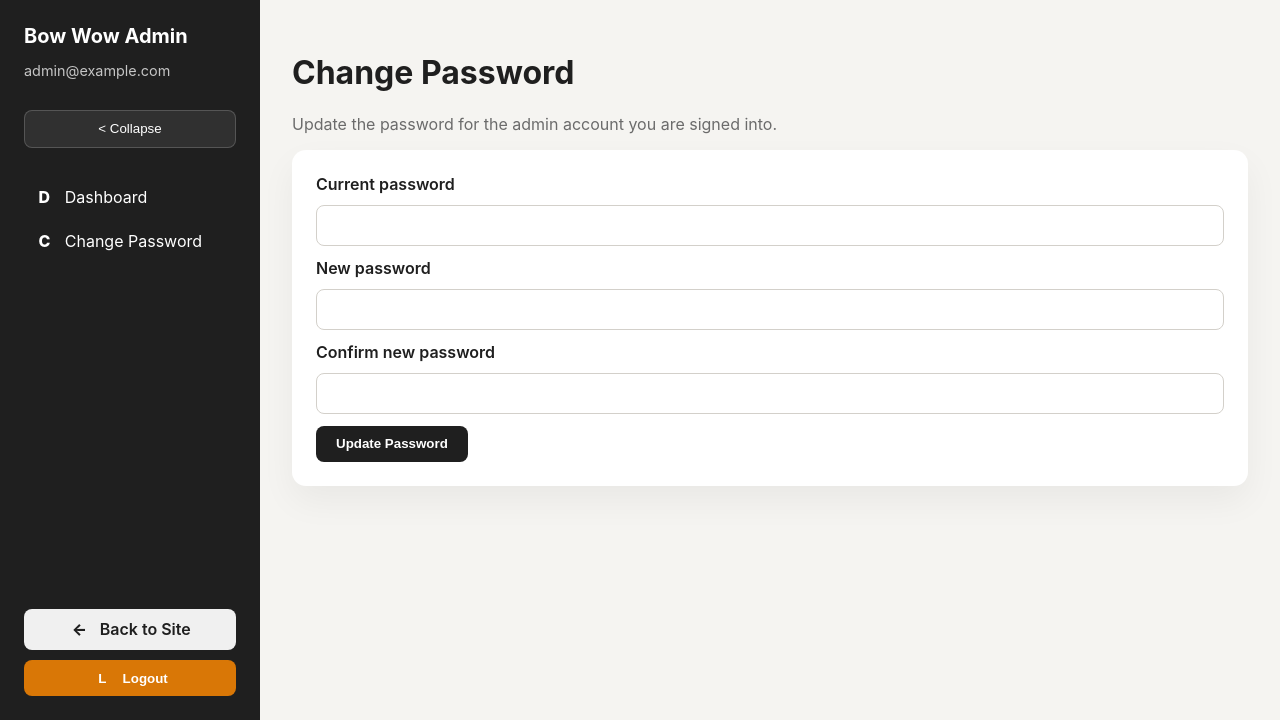
Test case: admin app › renders the change-password form and posts the expected payload
Type "old-password" into the password field labelled "Current password" at (770, 226), box [316,205,1224,246]
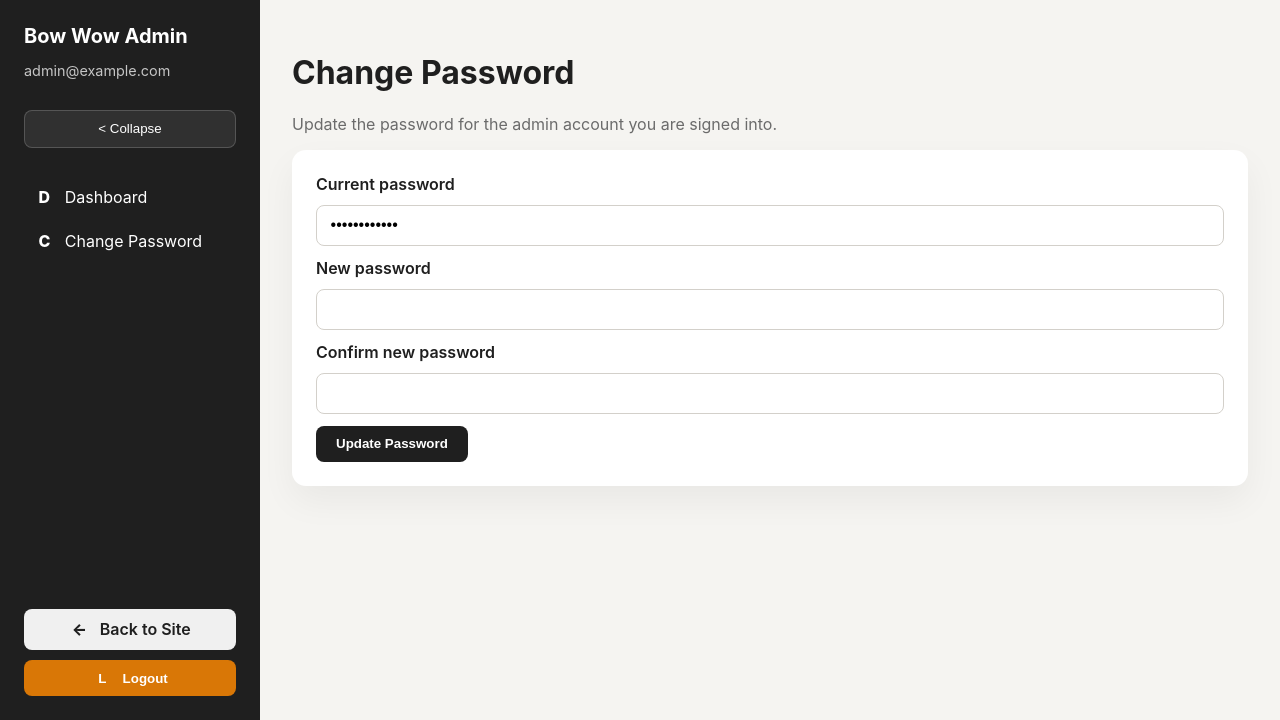
Type "new-password" into the password field labelled "New password" at (770, 309), box [316,289,1224,330]
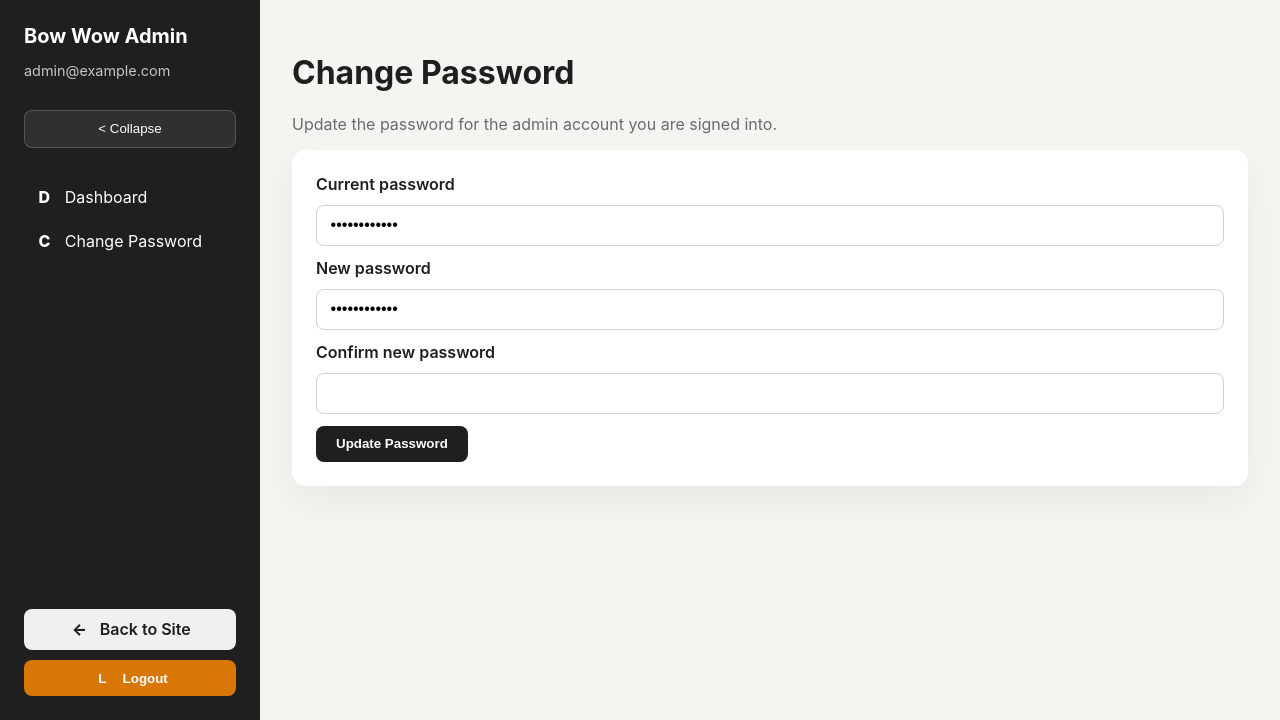
Type "new-password" into the password field labelled "Confirm new password" at (770, 393), box [316,373,1224,414]
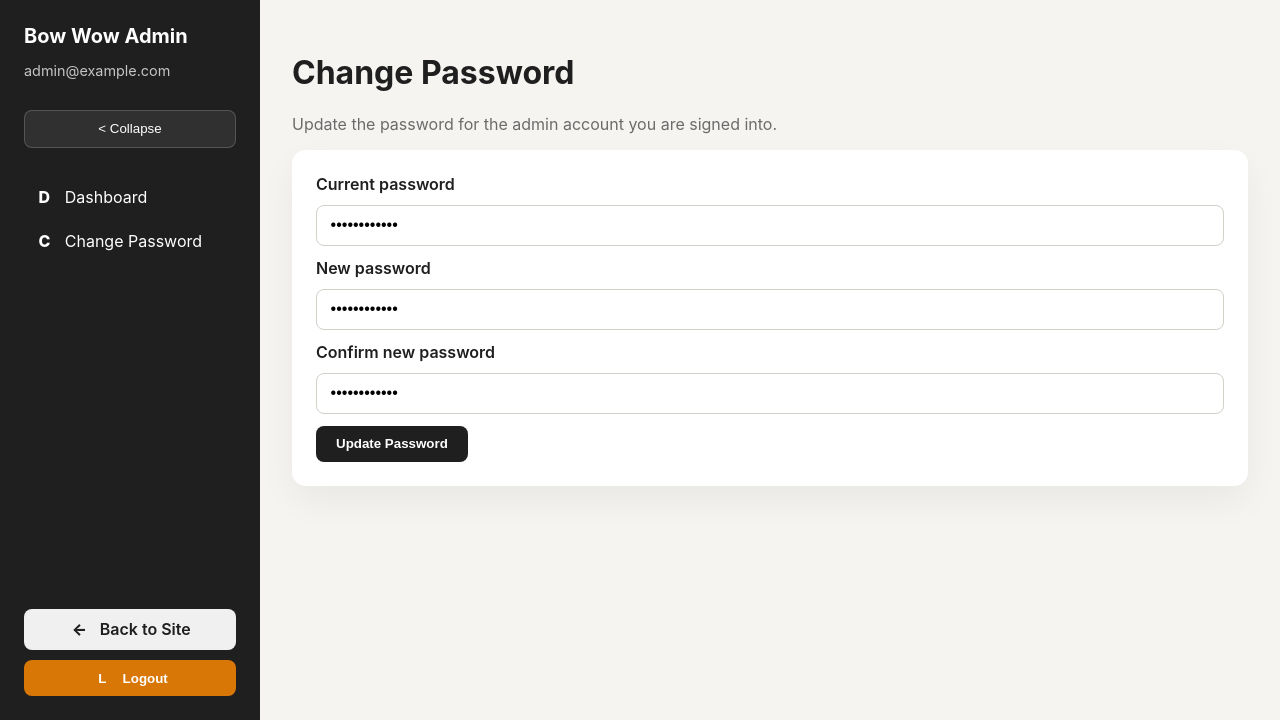
Click the button "Update Password" at (392, 444), box [316,426,468,462]
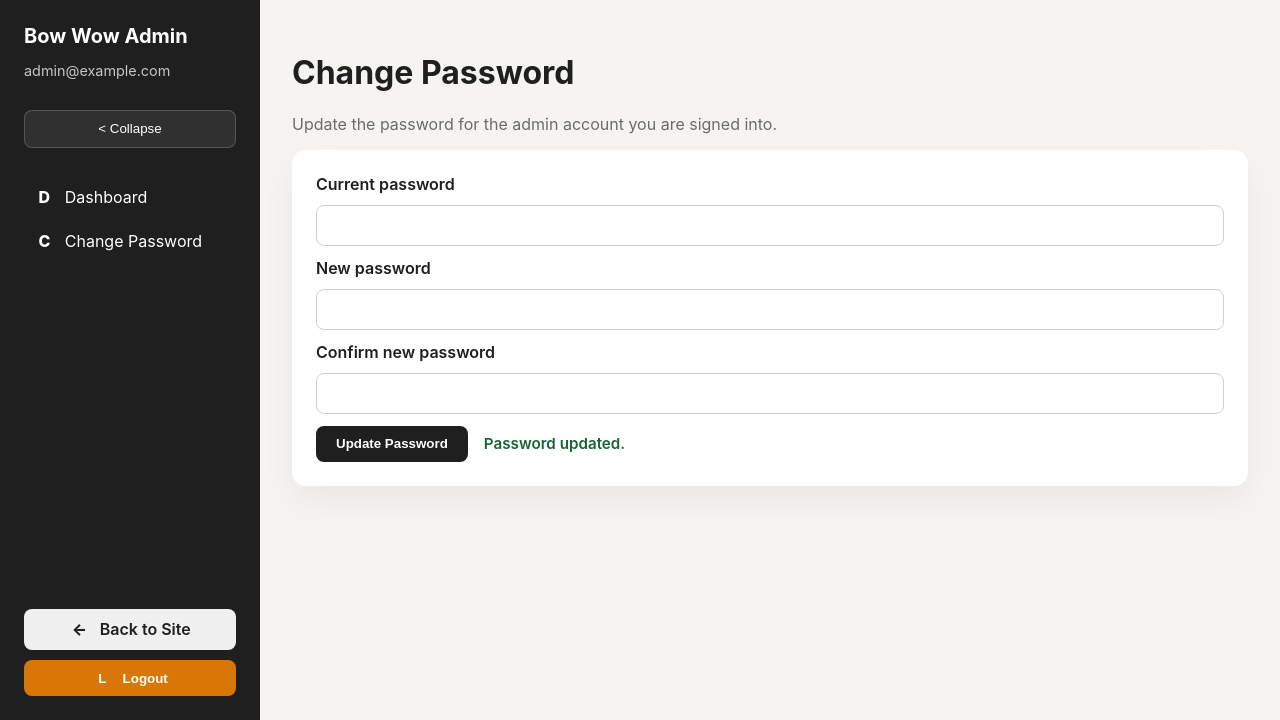
Expected: the text "Password updated." is shown, [484,434,625,453]
